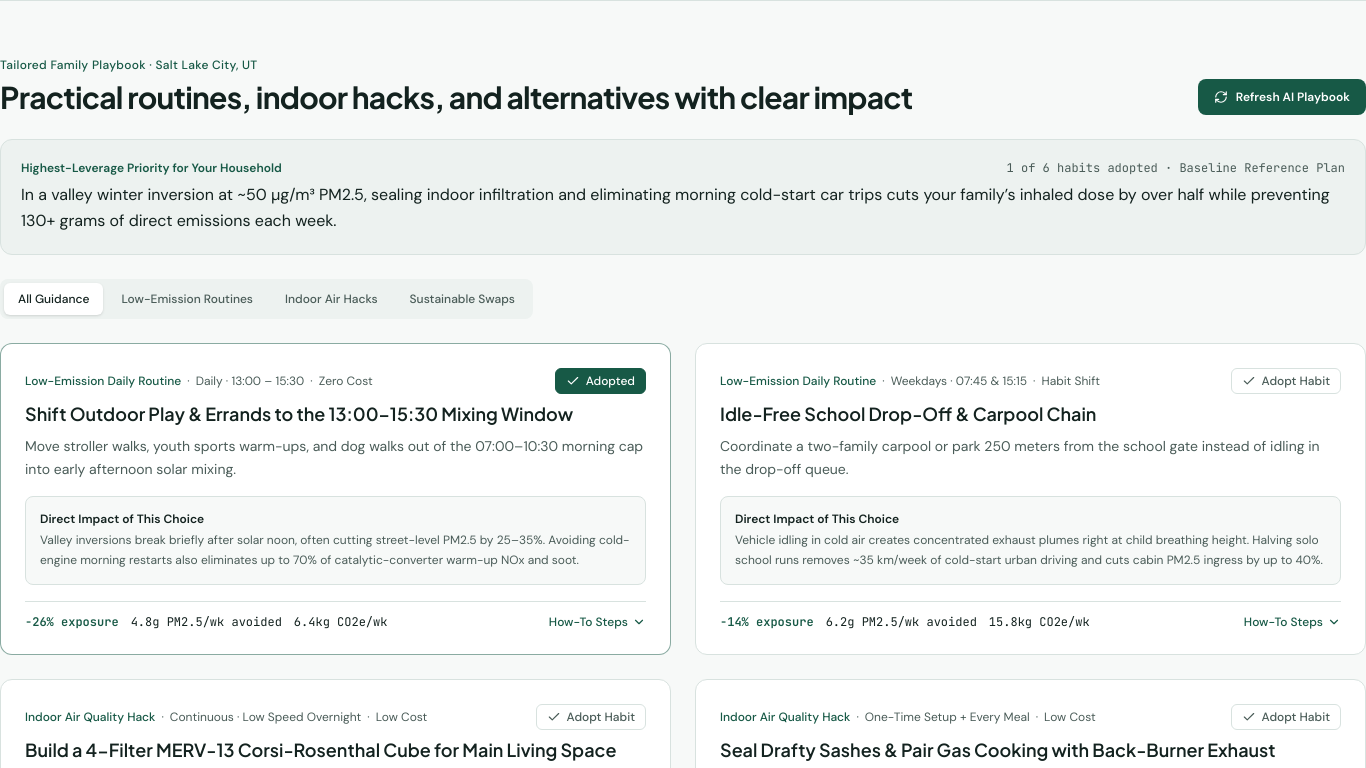
Test: VinterKlar UI Components & Accessibility › PlaybookSection filters categories, adopts habits with aria-pressed, expands steps, and handles loading/error states
The width and height of the screenshot is (1366, 768).
Later steps or results of the test are not shown.
Expected: the text "1 of 6 habits adopted · Baseline Reference Plan" is shown, [1007,160,1345,176]
Click the button "Adopted" at (600, 381), box [555,368,646,394]
Click the button "Indoor Air Hacks" at (331, 299), box [271,283,392,315]
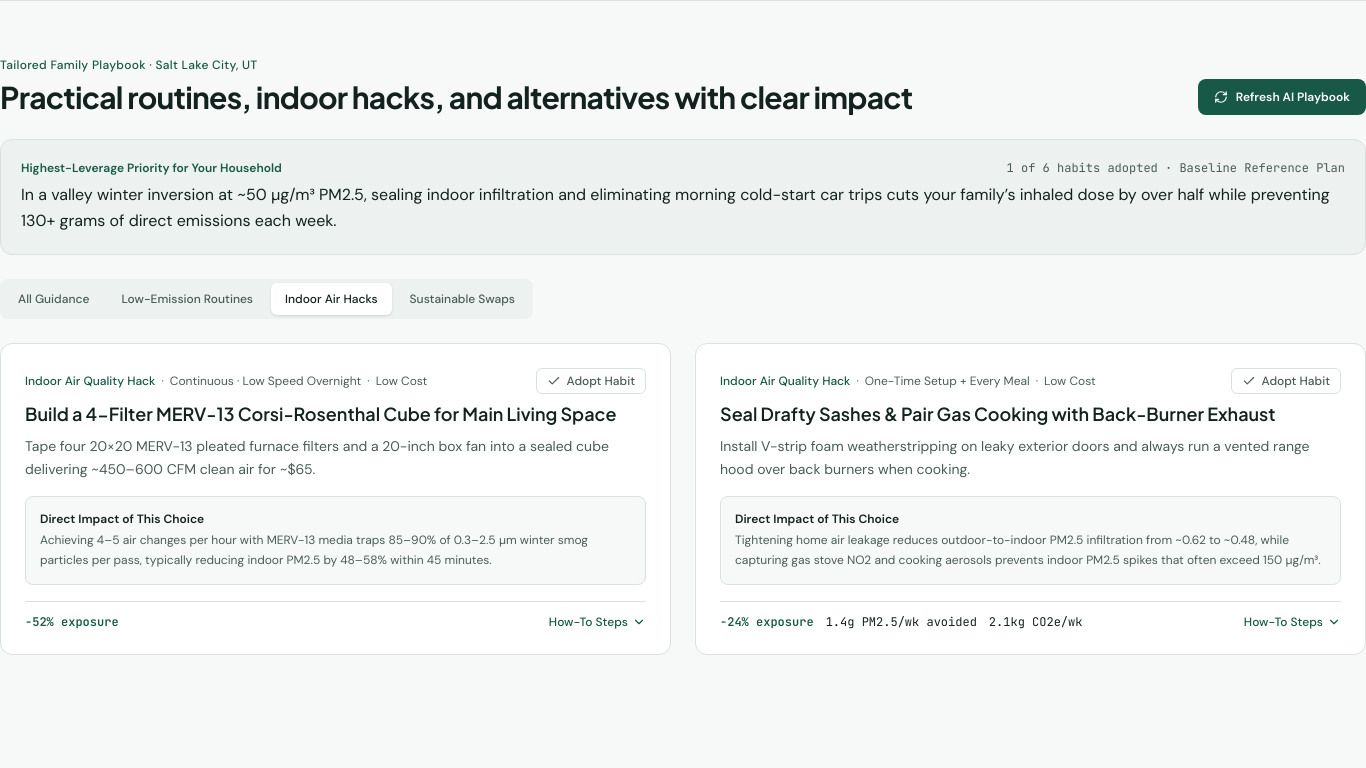
Expected: the heading "Corsi-Rosenthal Cube" is shown, [25,402,616,425]
Now the heading "Idle-Free School Drop-Off" is gone
Click the button "How-To Steps" in the row of "52" at (597, 622), box [549,614,646,630]
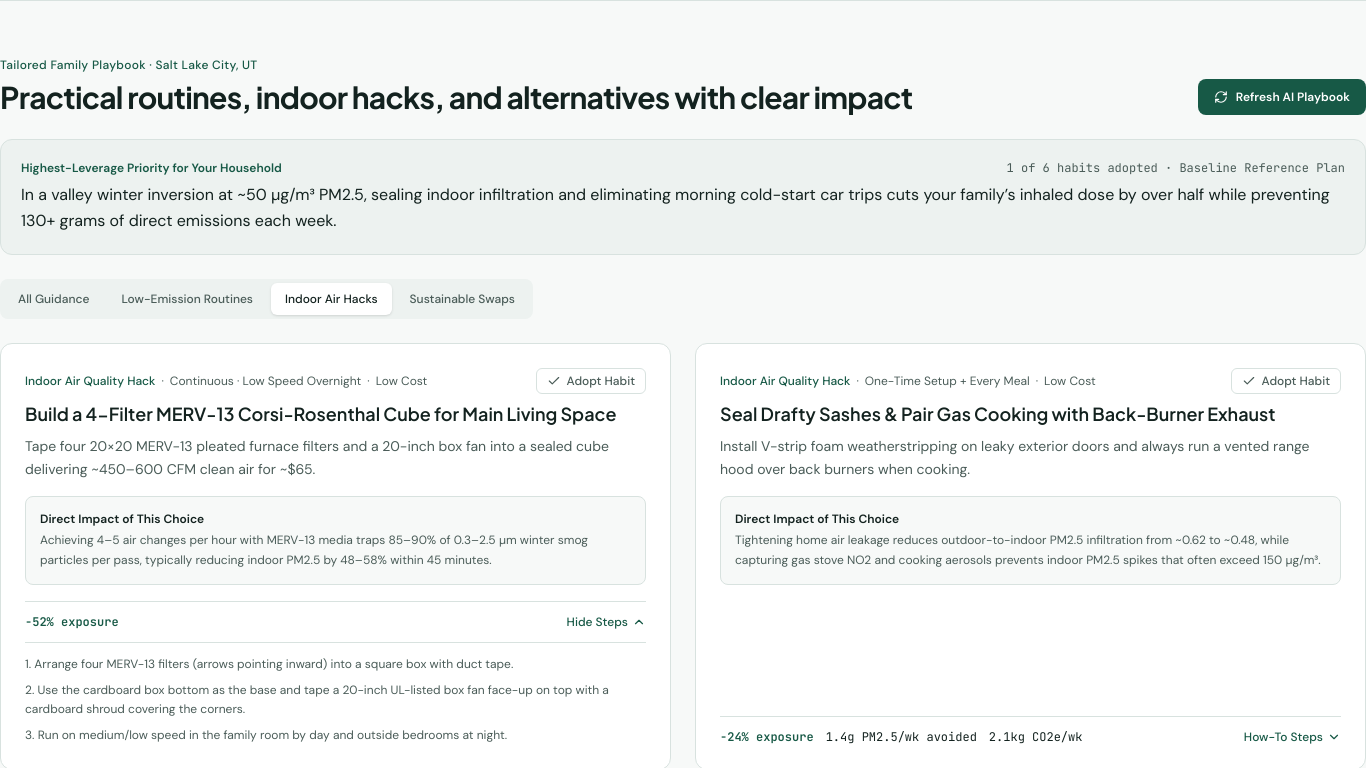
Now the button "Hide Steps" is expanded, box [567,614,646,630]
